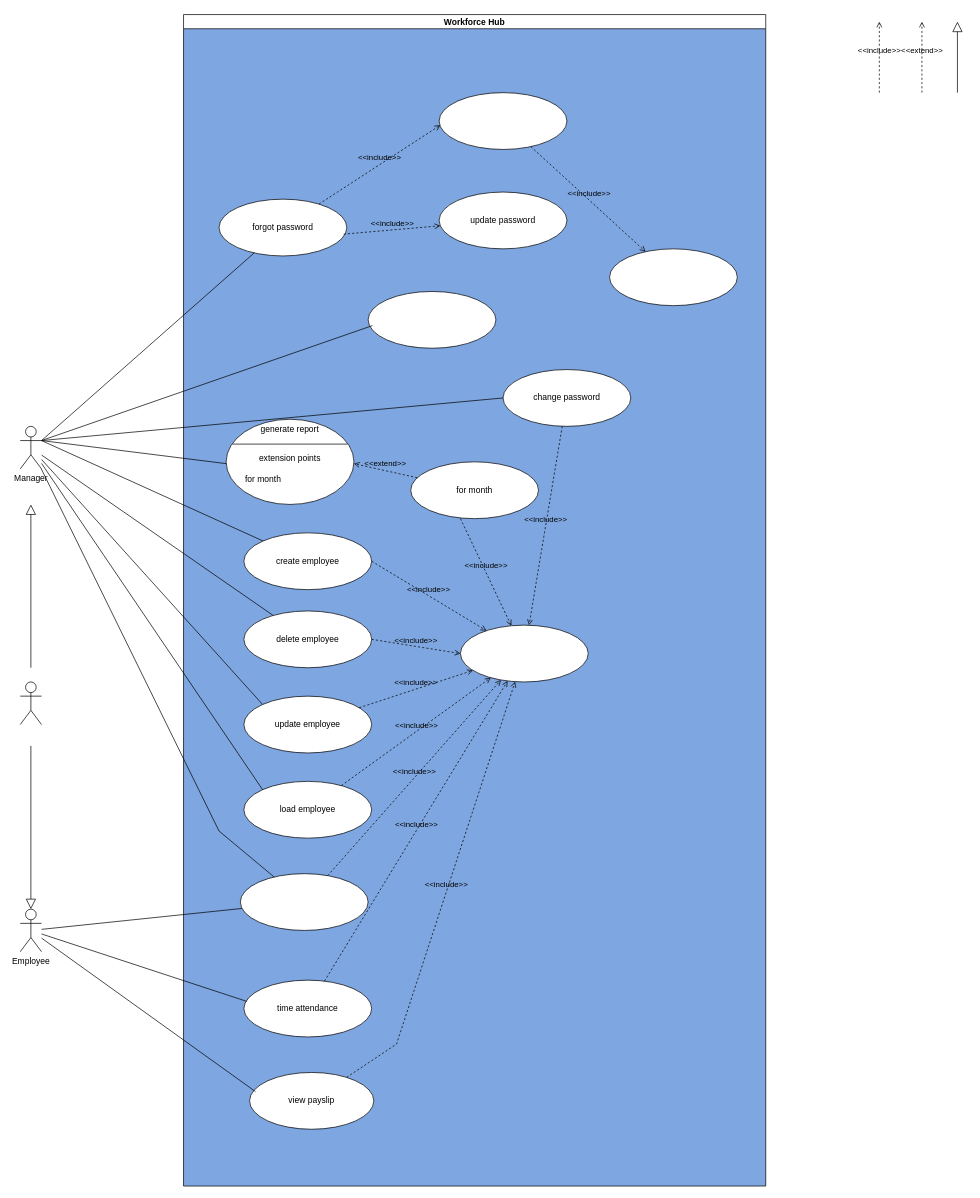
This 980x1198 diagram has some shape labels left out. Here are the shapes that lost their labels. From the top down, the centre of each, then its label:
At (x=502, y=120): "send notification".
At (x=673, y=277): "generate form".
At (x=431, y=319): "logout".
At (x=524, y=653): "login".
At (x=31, y=703): "Actor".
At (x=304, y=901): "payroll calculation".
